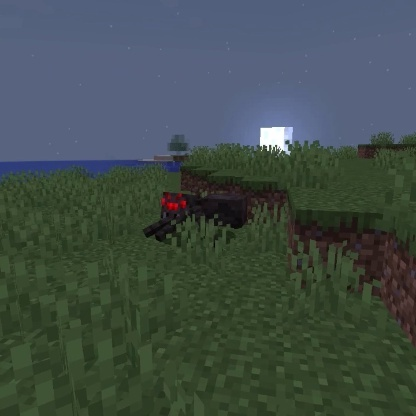spider: (139, 187, 249, 243)
